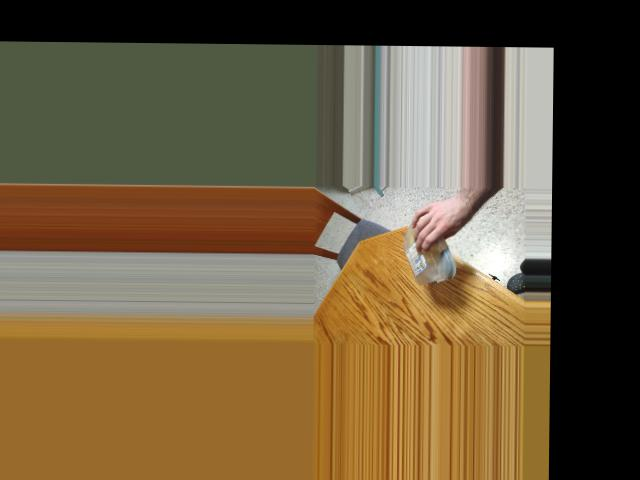cheese: (407, 225, 449, 277)
